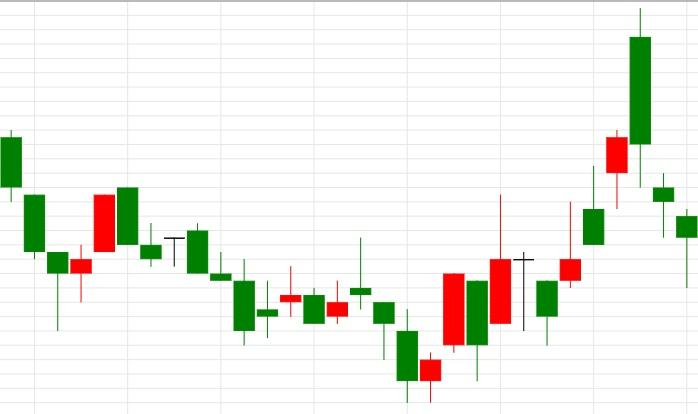evening_star_fall: (420, 194, 558, 404)
